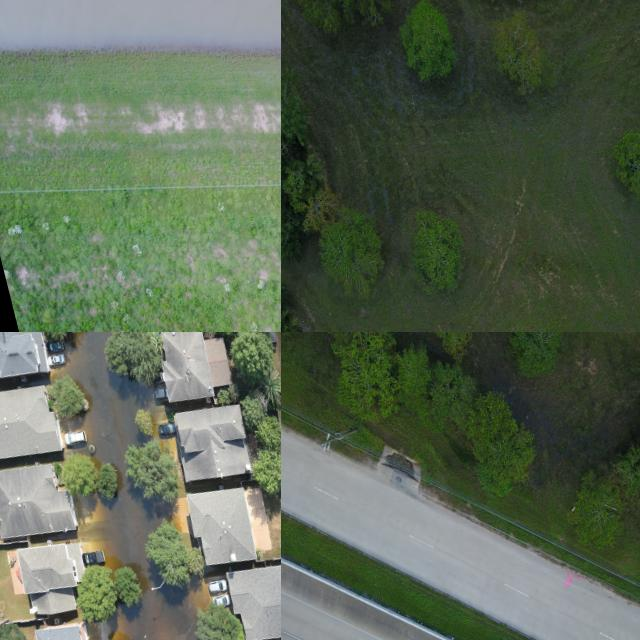fire: (52, 332, 168, 584), (0, 0, 281, 49), (116, 586, 197, 640)
